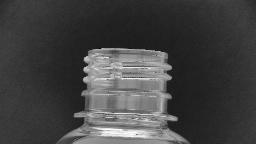No Cap: (69, 44, 183, 126)
